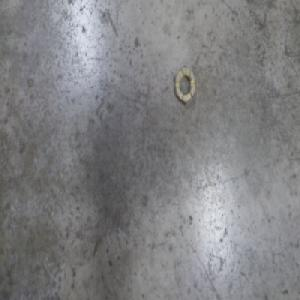Nut: (173, 62, 195, 105)
